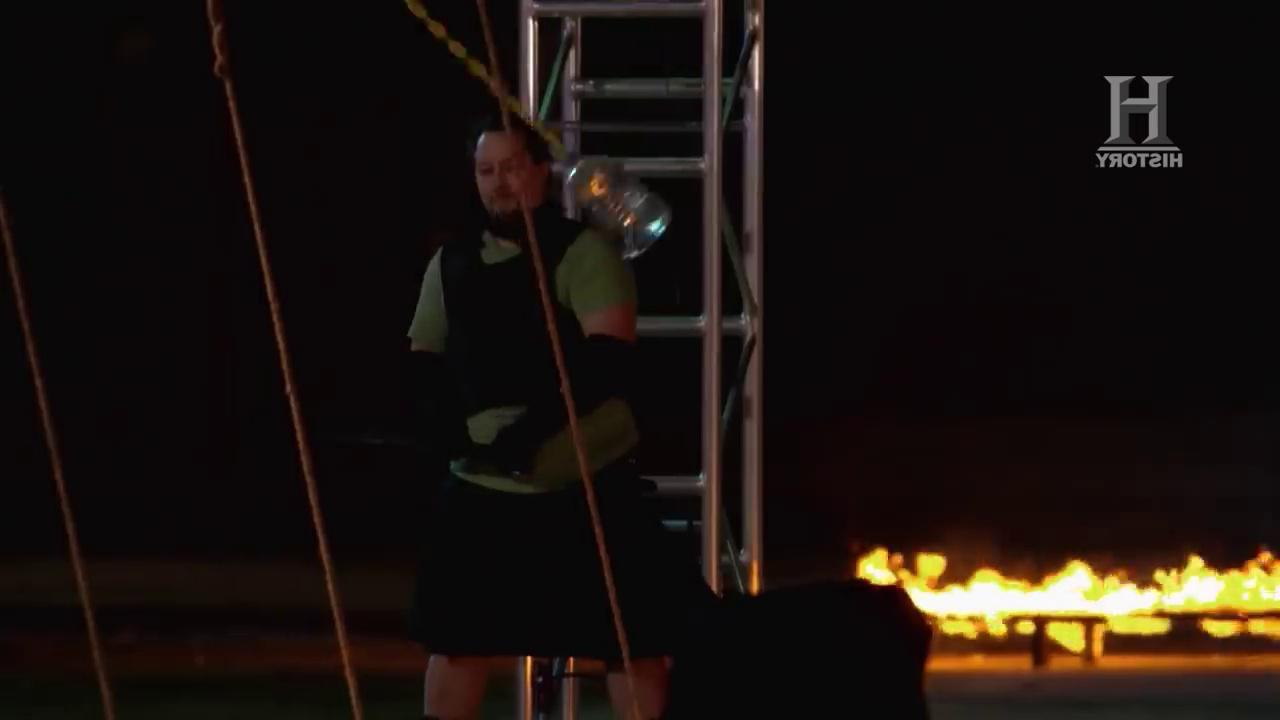Fire: (852, 538, 1279, 633)
